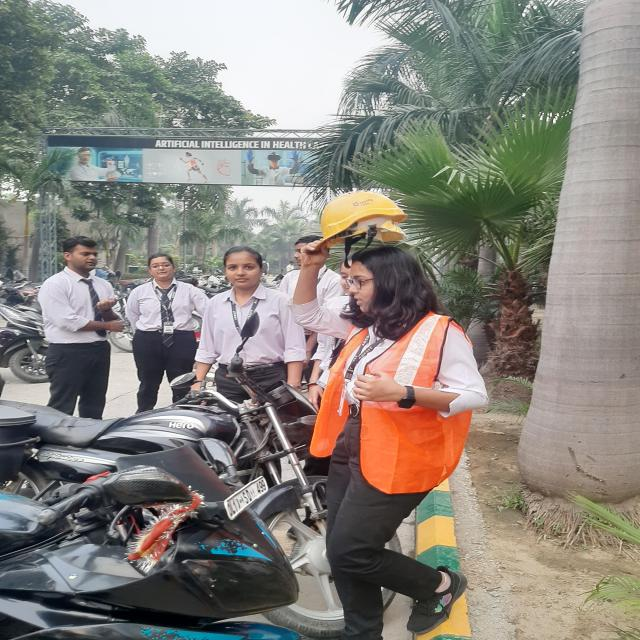safe: (293, 190, 480, 640)
unsafe: (195, 238, 297, 418), (39, 237, 125, 420), (126, 250, 202, 410)
